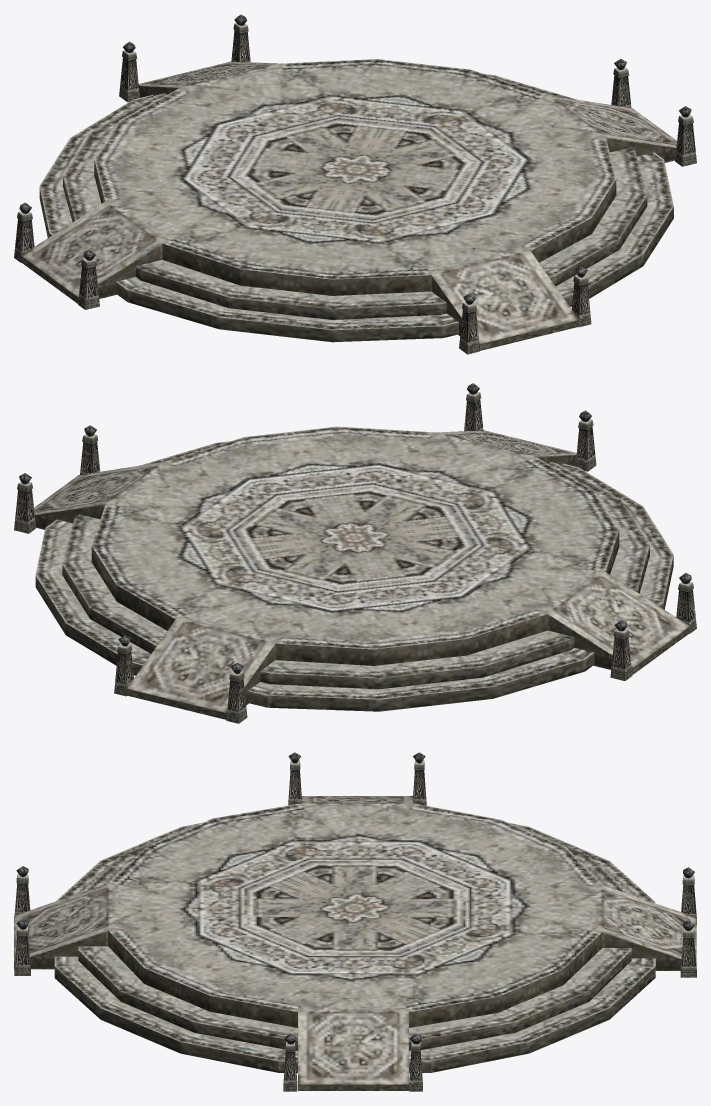
The model's file is warpgate03_01.glb.
The picture shows the model from 3 angles, top to bottom: view 1: azimuth 30°, elevation 25°; view 2: azimuth 150°, elevation 25°; view 3: azimuth 270°, elevation 25°; orthographic projection. The views are drawn at different scales.
Visible parts, largest first — view 1: gate03; view 2: gate03; view 3: gate03.
Boxes of the visible parts, x1,y1,x2,y2 form: gate03: (14, 14, 696, 354); gate03: (14, 383, 696, 723); gate03: (14, 752, 696, 1091).
Size of the model in its own units: 12.99 by 1.15 by 13.
1 material, 1 textured.
